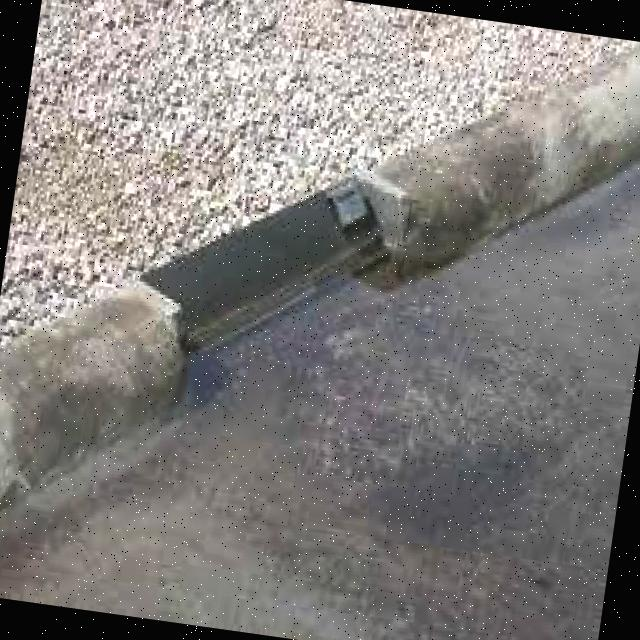curb: (1, 173, 290, 506), (263, 90, 480, 353), (488, 25, 640, 247)
